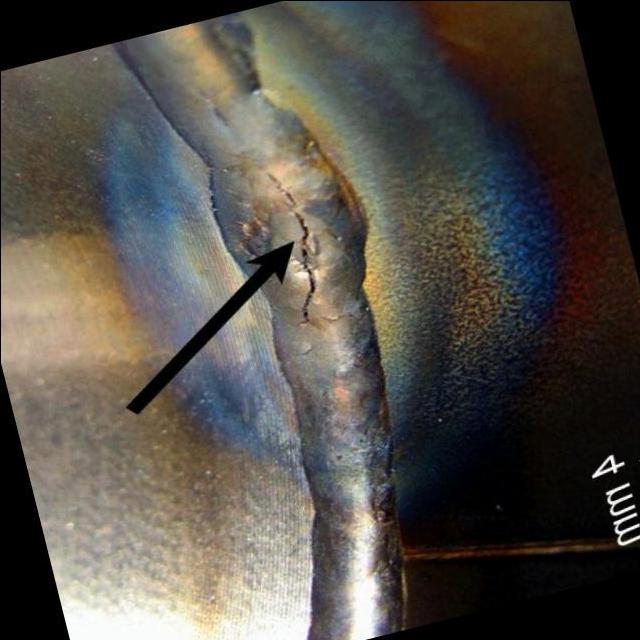defect: (264, 169, 326, 332)
